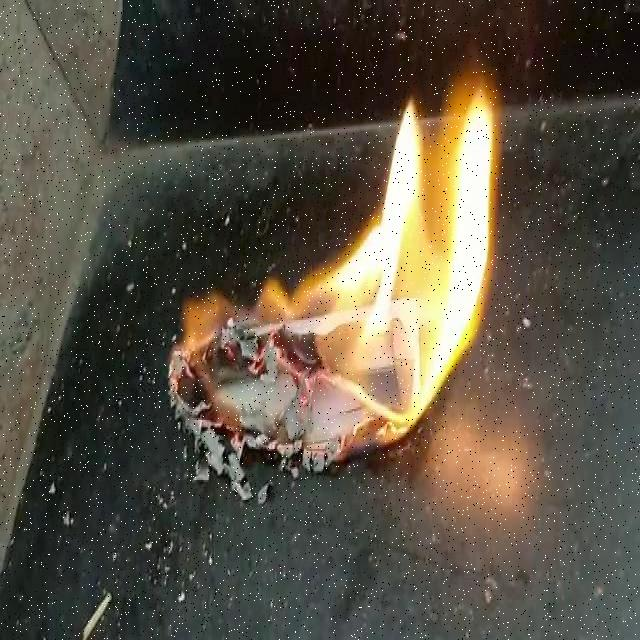fire: (308, 112, 516, 450), (174, 292, 306, 349)
